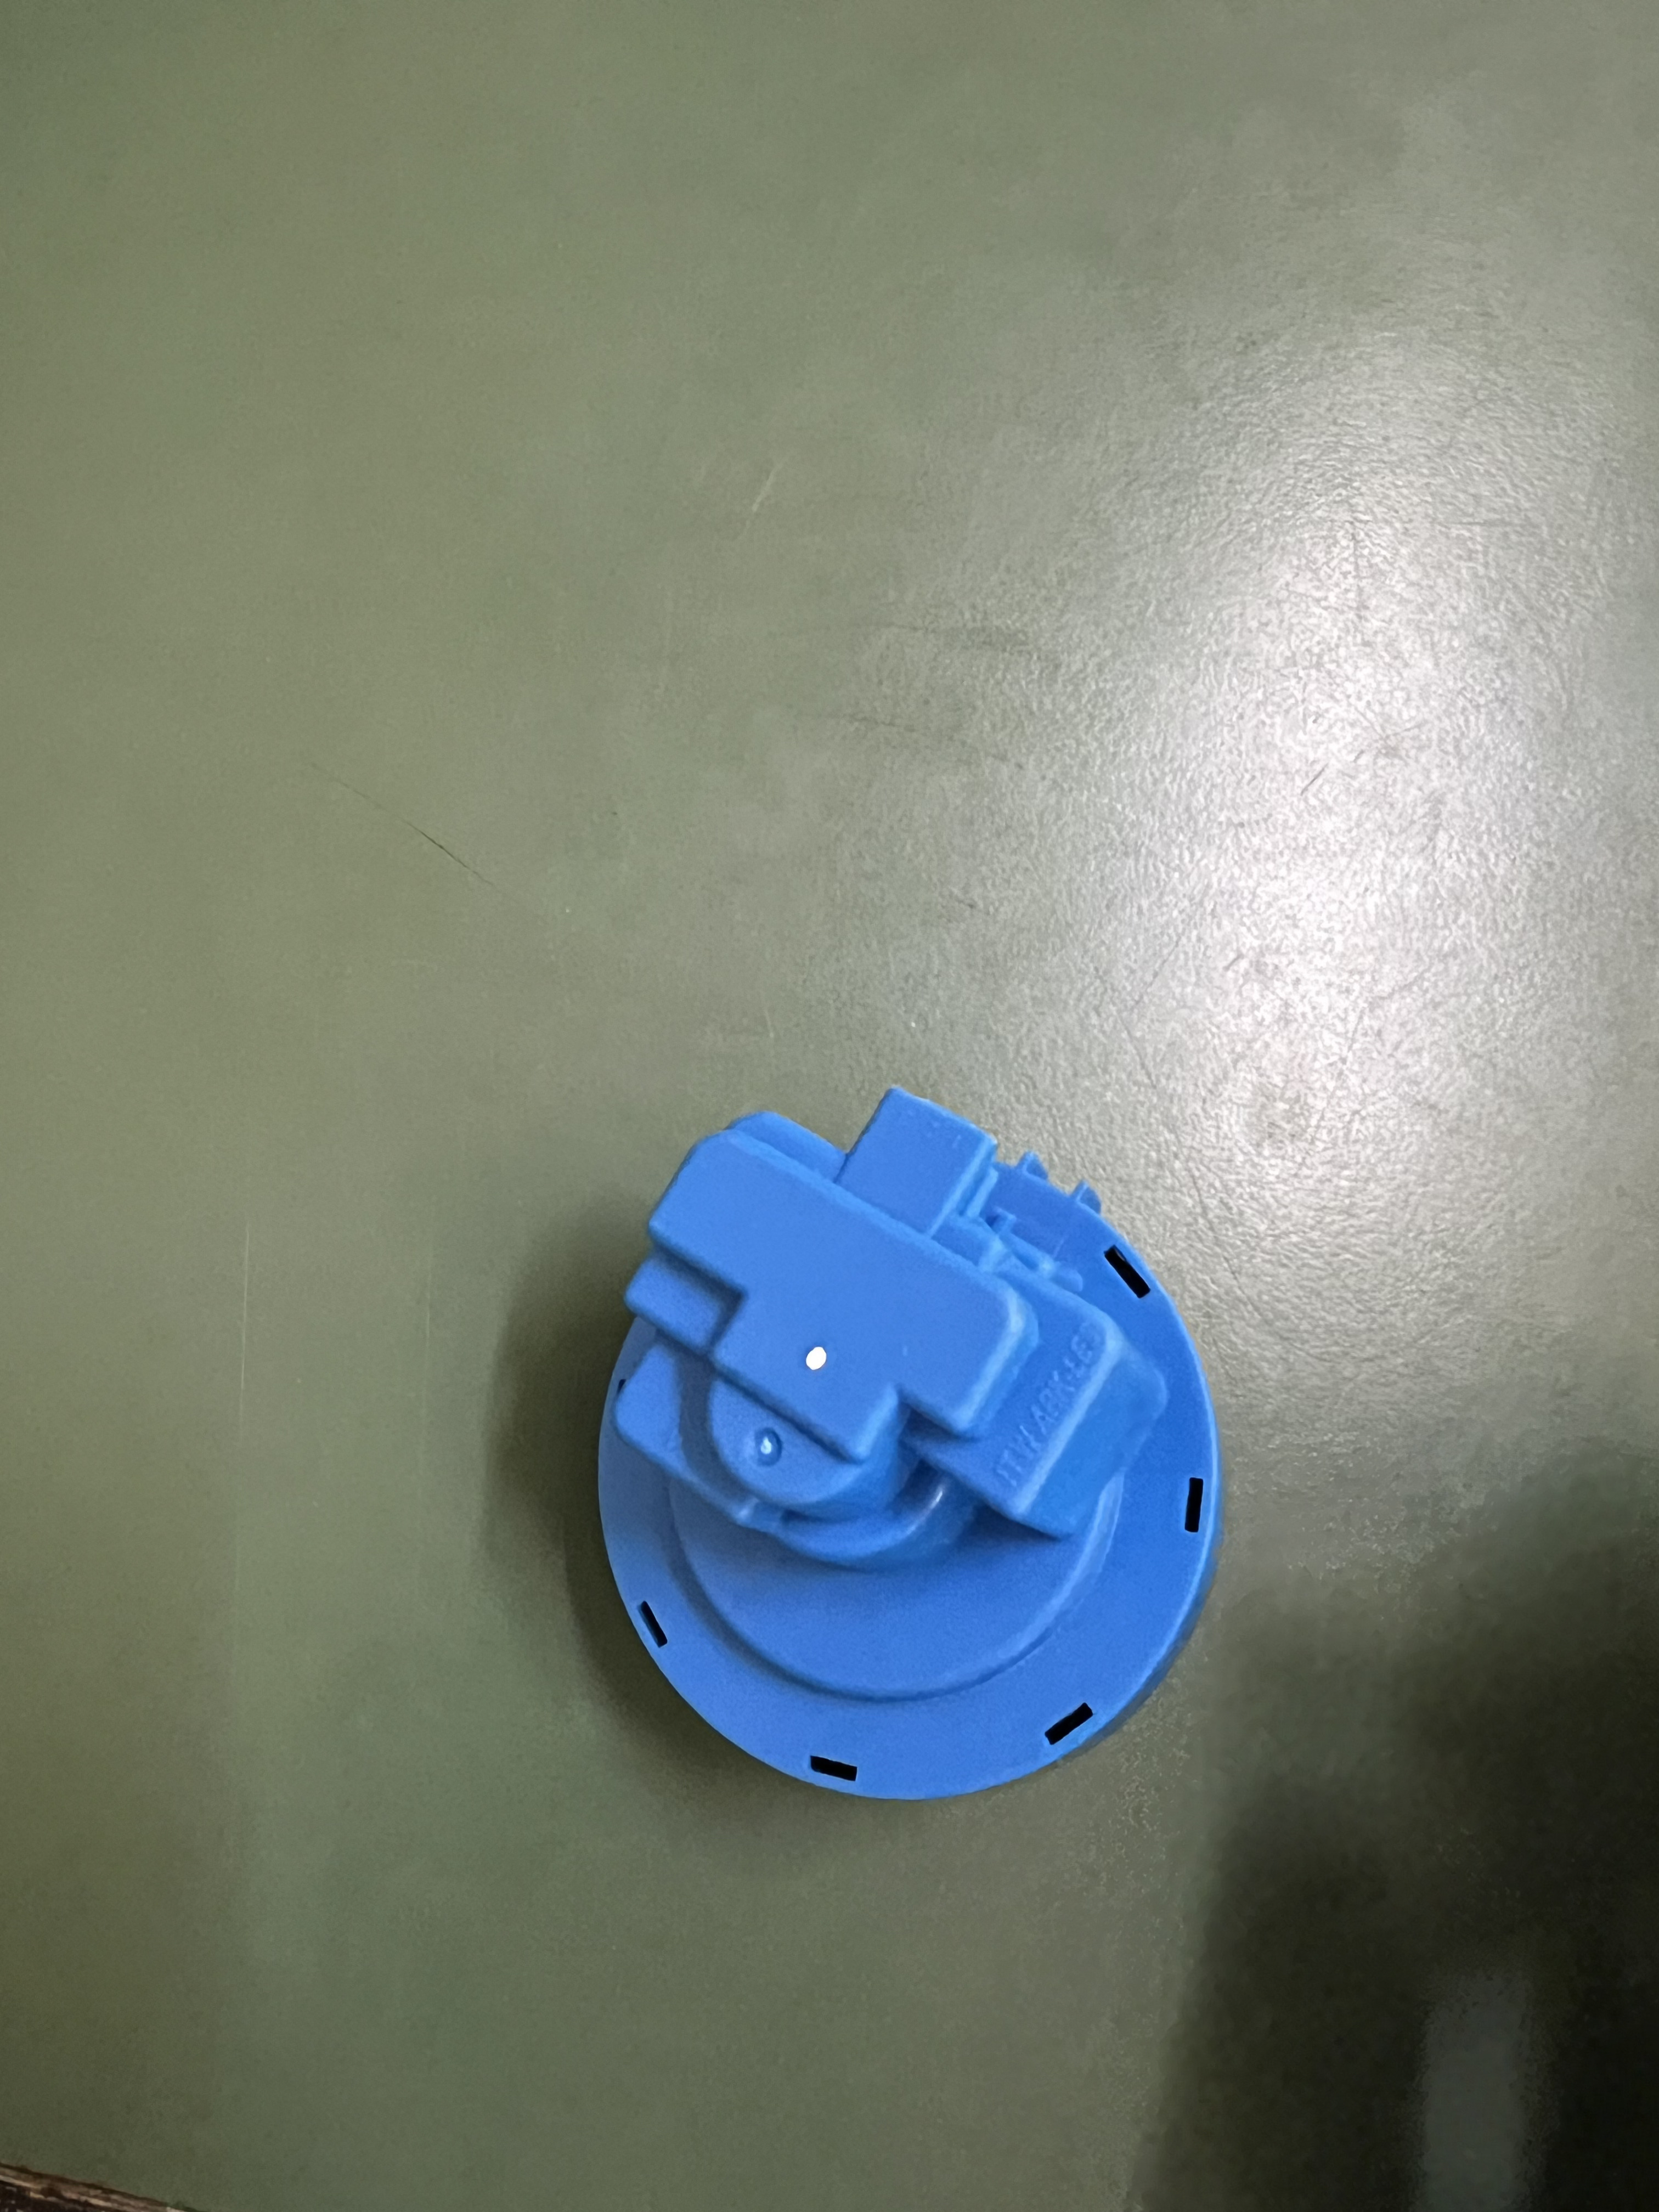voltas_beko_pressure_switch: (542, 1085, 1230, 1836)
